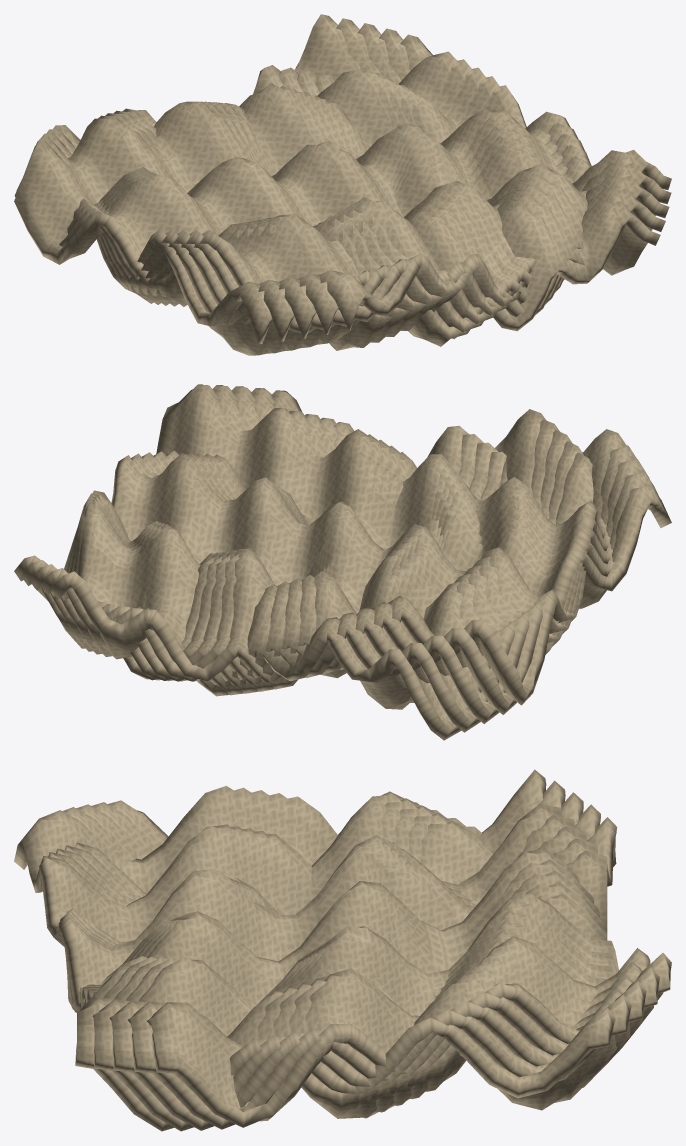
File: Napkins.fbx
3 views of the same model, one above another, from view 1: azimuth 30°, elevation 25°; view 2: azimuth 150°, elevation 25°; view 3: azimuth 270°, elevation 25° (orthographic). The views are drawn at different scales.
Visible parts, largest first — view 1: Napkins_Linen; view 2: Napkins_Linen; view 3: Napkins_Linen.
Boxes of the visible parts, x1,y1,x2,y2 form: Napkins_Linen: [14, 14, 671, 355]; Napkins_Linen: [14, 384, 671, 740]; Napkins_Linen: [14, 769, 671, 1131].
Bounding box in the file's own units: 23.51 × 5.5 × 23.57.
